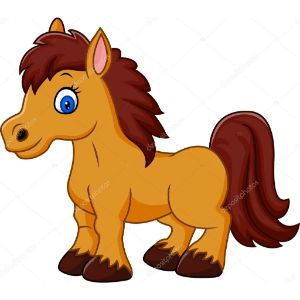horse: (1, 17, 299, 285)
